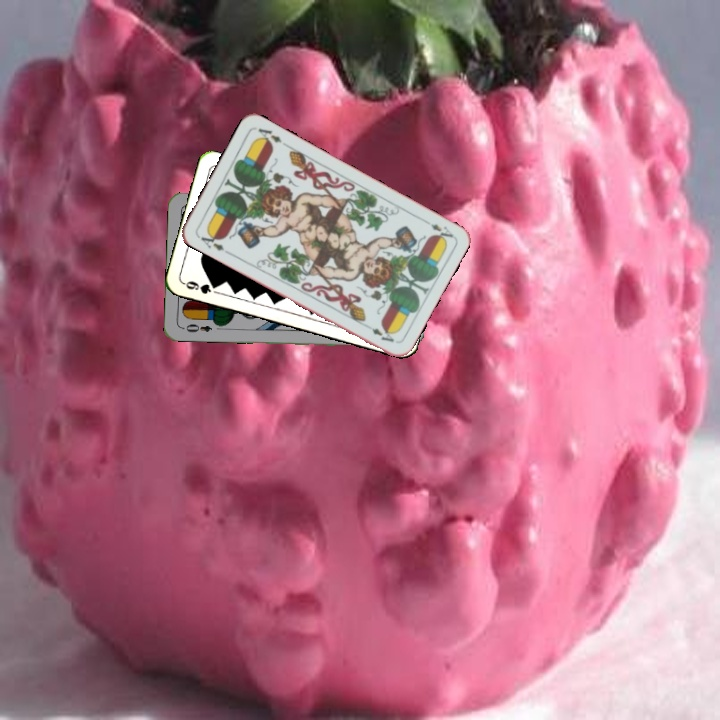EA: (194, 228, 231, 257), (418, 215, 456, 243)
EO: (178, 320, 214, 335)
G9: (179, 277, 221, 297)
